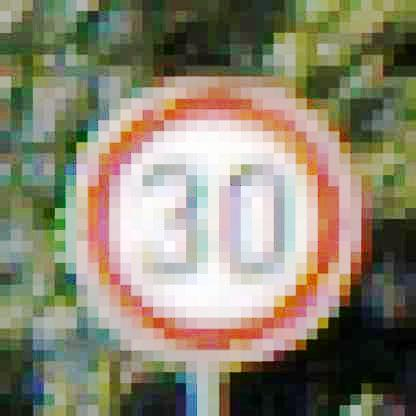Speed Limit -30-: (72, 78, 363, 362)
